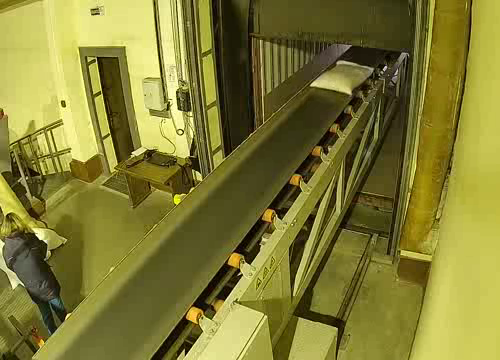bag: (307, 58, 380, 99)
